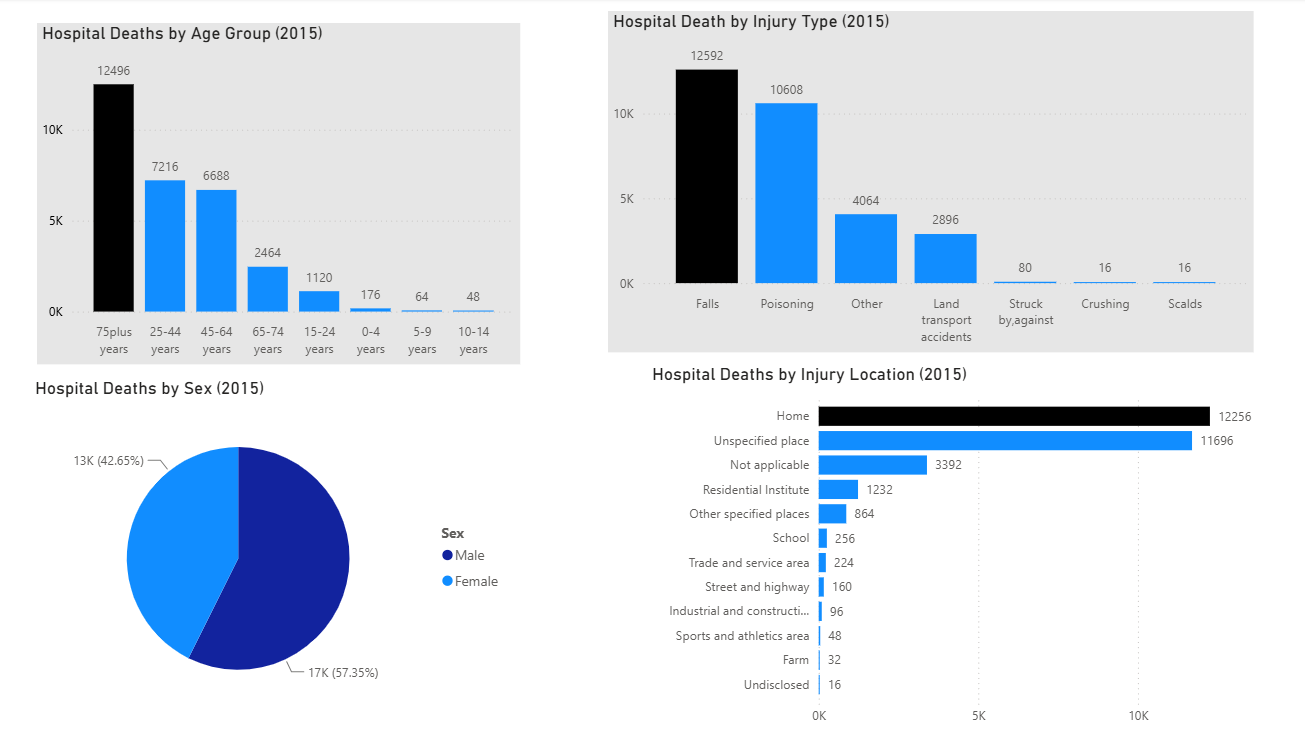

The dashboard page shown, as its layout file describes it:
{"tool":"powerbi","page":{"name":"Deaths Analysis","canvas":[1280,720],"ordinal":1},"visuals":[{"type":"clusteredColumnChart","title":"Hospital Deaths by Age Group (2015)","fields":{"Category":["DimAgeGroup_New.AgeGroup"],"Y":["Sum(Deaths_2015.NumberofDeaths)"]},"box":[46.7,24.3,469.8,331.7],"z":0},{"type":"pieChart","title":"Hospital Deaths by Sex (2015)","fields":{"Category":["DimSex.Sex"],"Y":["Sum(Deaths_2015.NumberofDeaths)"]},"box":[40,370,470,332],"z":1000},{"type":"clusteredBarChart","title":"Hospital Deaths by Injury Location (2015)","fields":{"Category":["Deaths_2015.InjuryLocation"],"Y":["Sum(Deaths_2015.NumberofDeaths)"]},"box":[640,356,616.7,359.9],"z":2000},{"type":"columnChart","title":"Hospital Death by Injury Type (2015)","fields":{"Y":["Sum(Deaths_2015.NumberofDeaths)"],"Category":["DimInjuryType_New.InjuryType"]},"box":[602.1,12.6,628.3,331.7],"z":3000}]}

Visuals, with their boxes in screenshot pixels (x1, y1, x2, y2), scaled from the page's 1280x720 canvas onto the 1305x737 screenshot:
"Hospital Deaths by Age Group (2015)" clusteredColumnChart: (left=48, top=25, right=527, bottom=364)
"Hospital Deaths by Sex (2015)" pieChart: (left=41, top=379, right=520, bottom=719)
"Hospital Deaths by Injury Location (2015)" clusteredBarChart: (left=652, top=364, right=1281, bottom=733)
"Hospital Death by Injury Type (2015)" columnChart: (left=614, top=13, right=1254, bottom=352)
